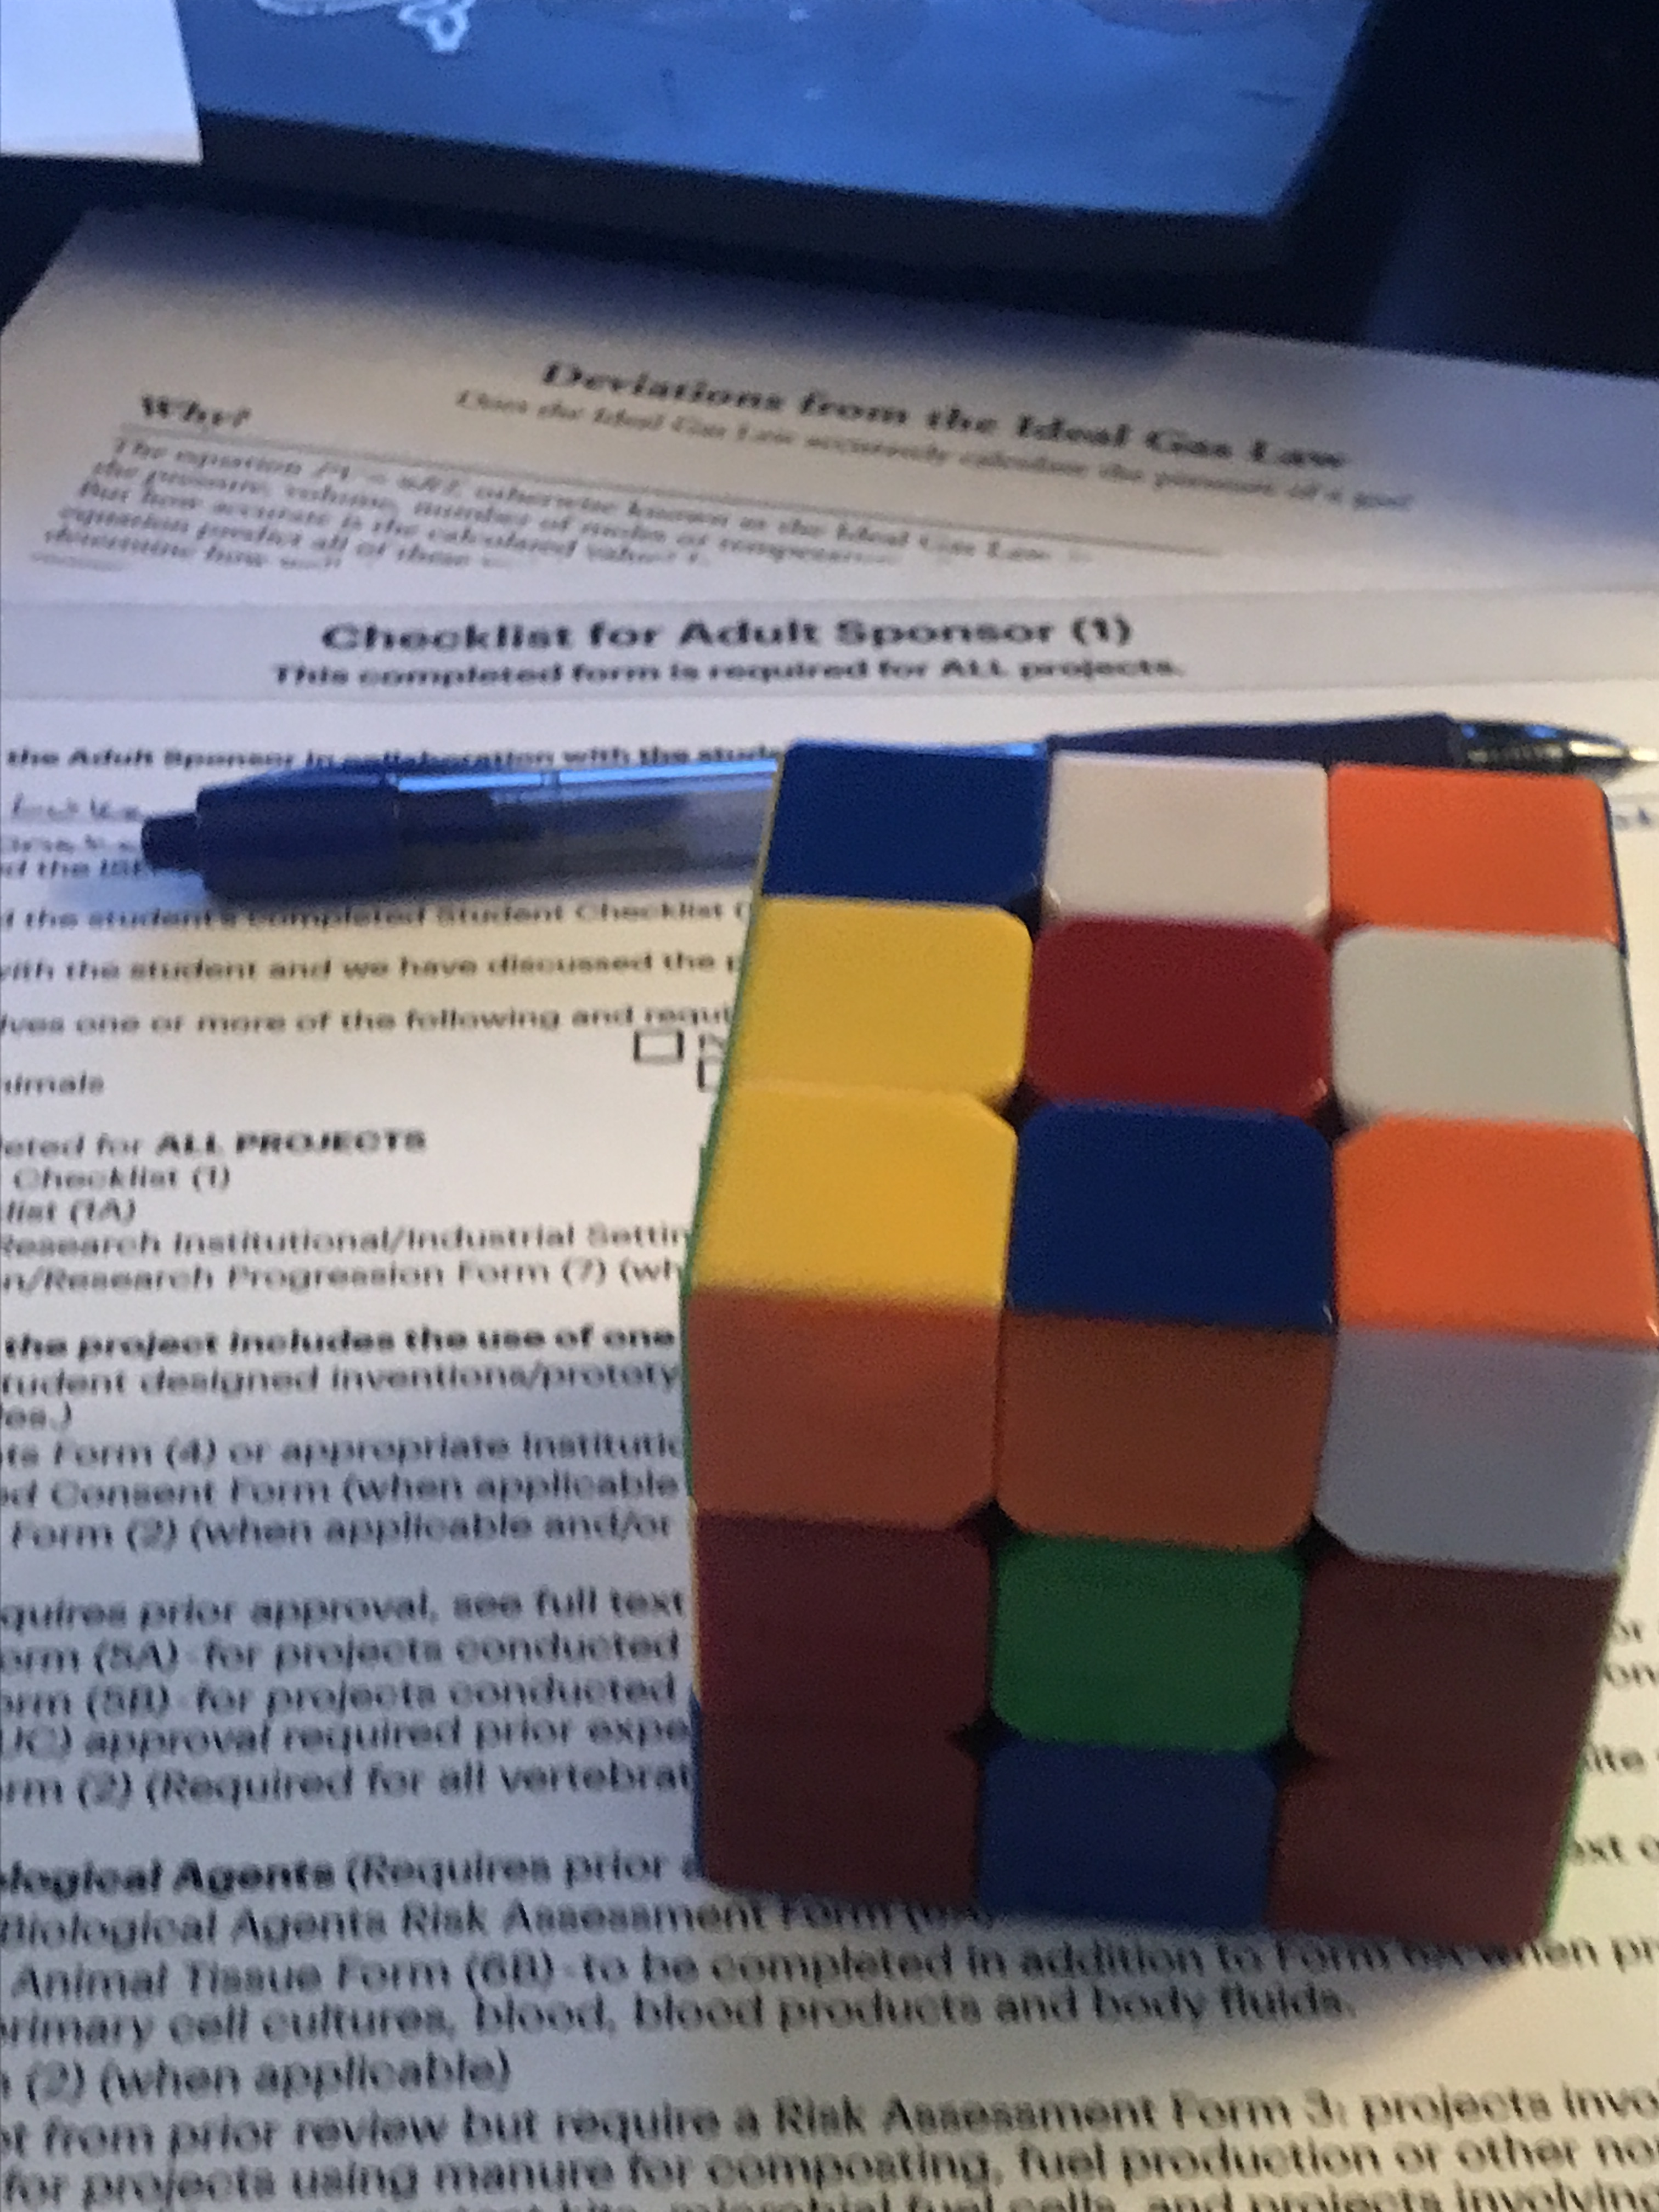rubiks: (647, 733, 1659, 1959)
